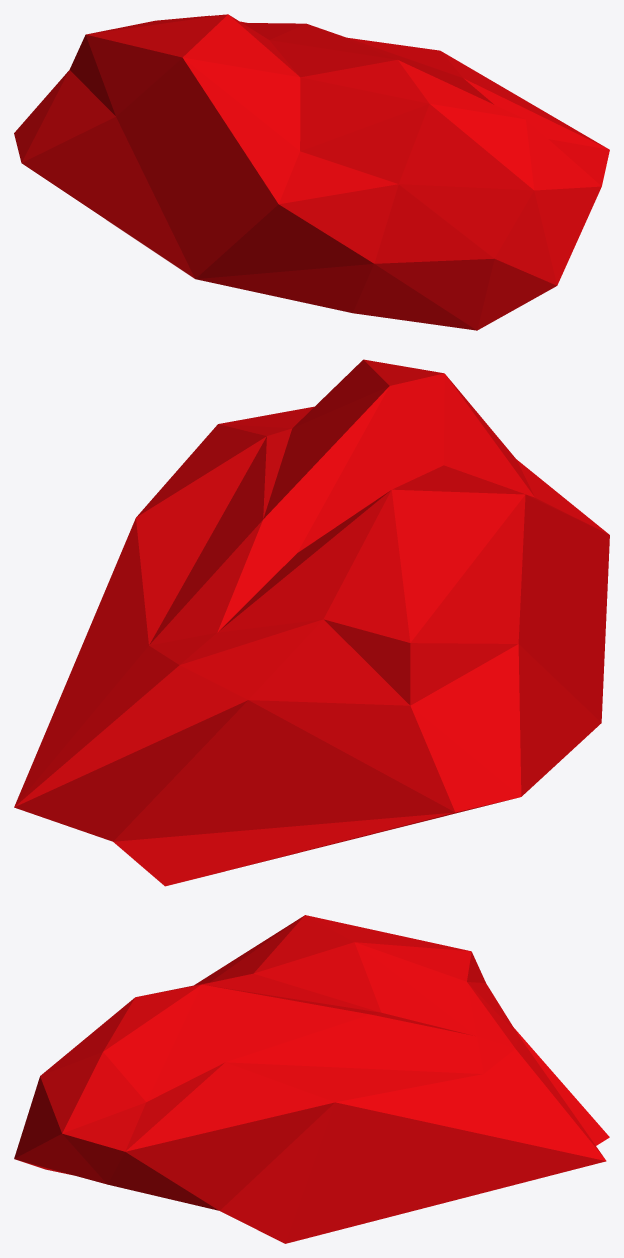
Rendered from bush.fbx.
3 views of the same model, one above another, from view 1: azimuth 30°, elevation 25°; view 2: azimuth 150°, elevation 25°; view 3: azimuth 270°, elevation 25° (orthographic). The views are drawn at different scales.
Visible parts, largest first — view 1: Icosphere.001; view 2: Icosphere.001; view 3: Icosphere.001.
Boxes of the visible parts, <box> form: Icosphere.001: <box>14,14,609,330</box>; Icosphere.001: <box>14,359,609,886</box>; Icosphere.001: <box>14,915,609,1243</box>.
Bounding box in the file's own units: 477 × 258 × 664.
